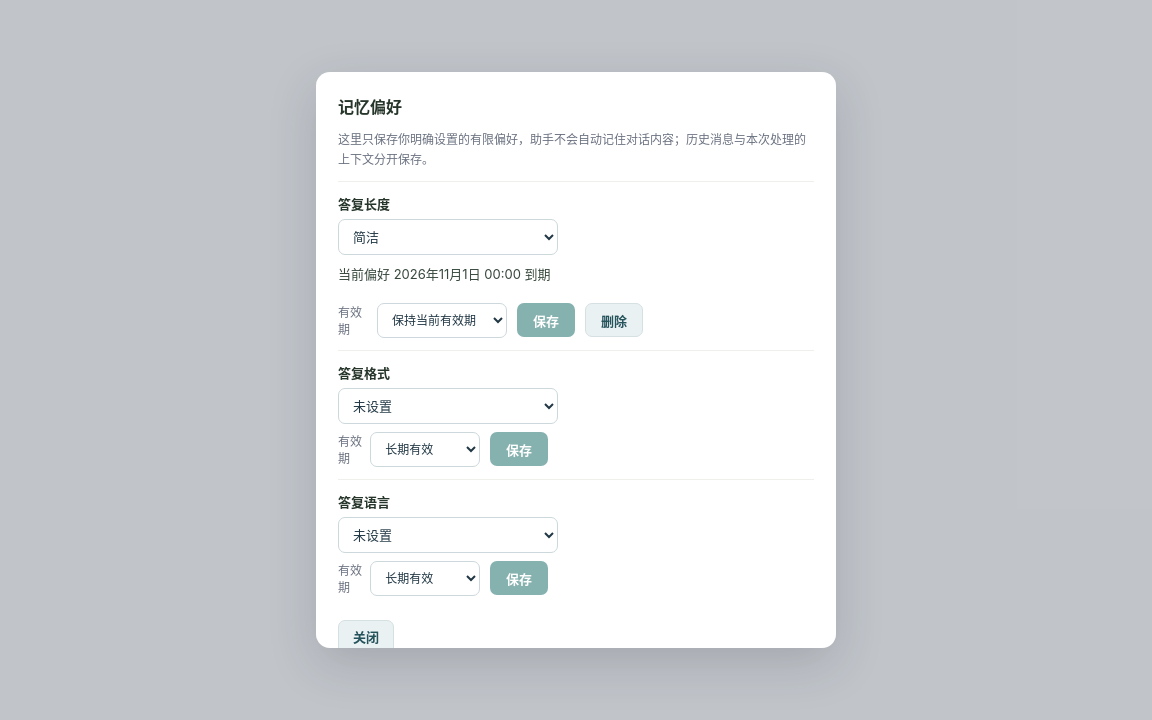
delete removes a stored preference with the revision guard
Click the button with test id "delete-answer_length" at (614, 320), box [585,303,643,337]
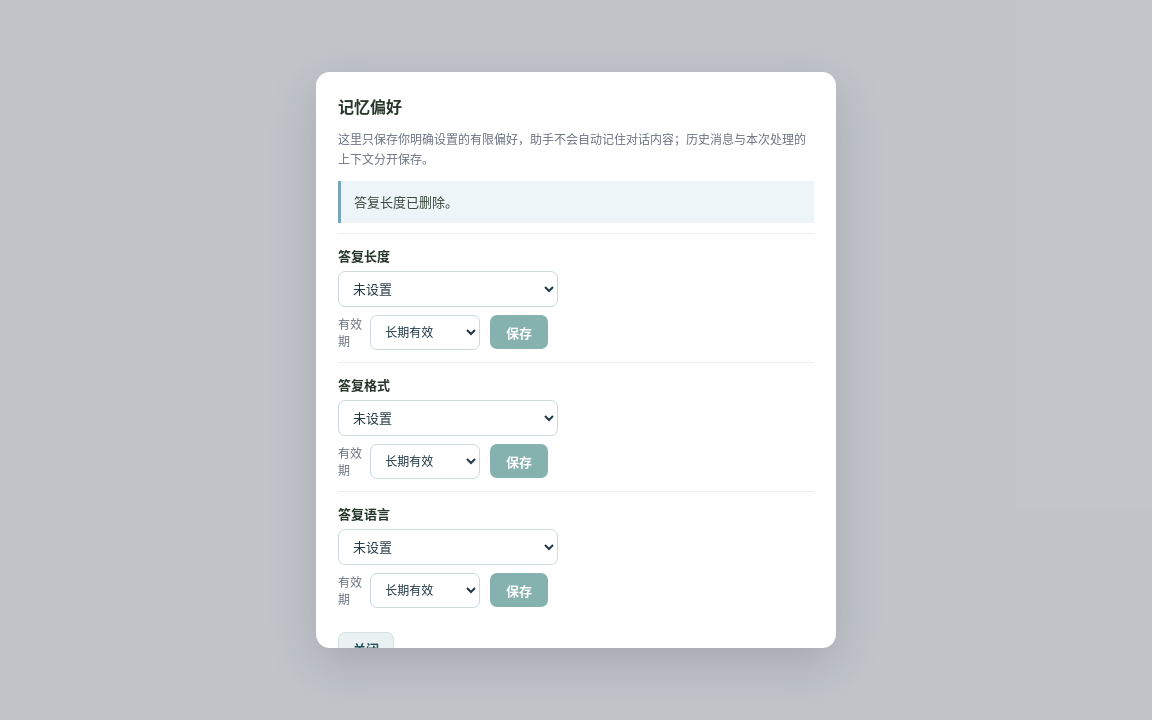
Check: the text "已删除" is shown, box [338,181,814,223]
